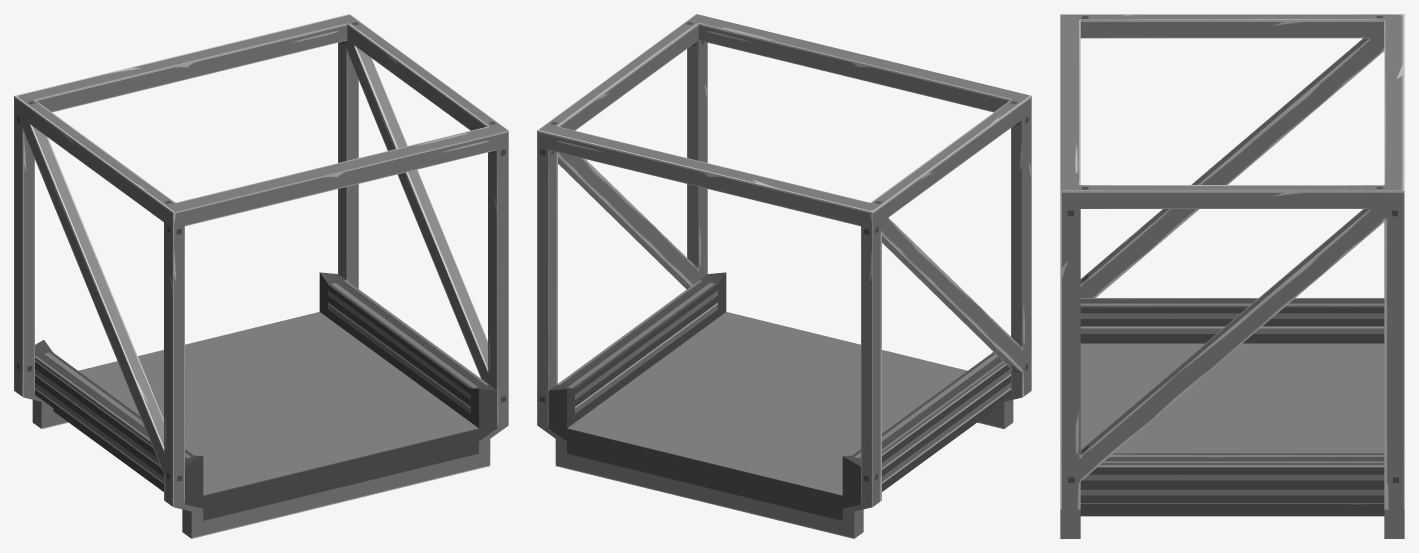
Rendered from Bridge3.fbx.
3 renders of one model, left to right at view 1: azimuth 30°, elevation 25°; view 2: azimuth 150°, elevation 25°; view 3: azimuth 270°, elevation 25°, orthographic. The views are drawn at different scales.
Visible parts, largest first — view 1: Bridge3; view 2: Bridge3; view 3: Bridge3.
Part boxes in pixels (bbox=[...]): Bridge3: bbox=[14, 14, 508, 538]; Bridge3: bbox=[537, 14, 1031, 538]; Bridge3: bbox=[1060, 14, 1404, 538].
Size of the model in its own units: 14.6 by 13.77 by 12.
